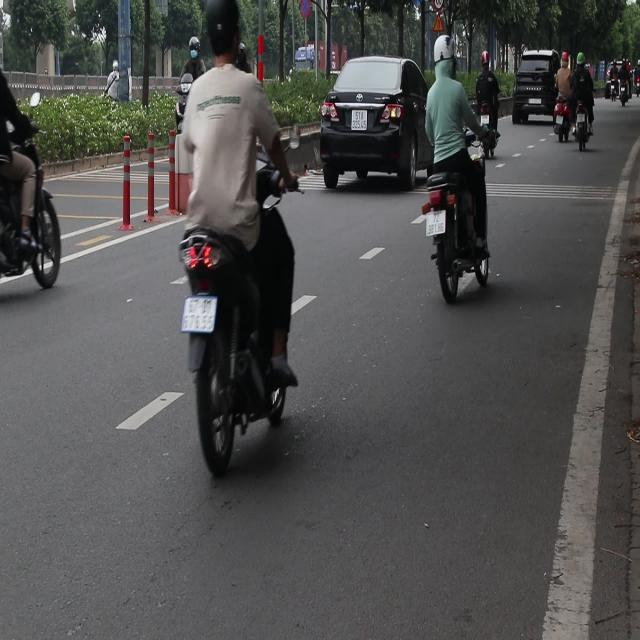car: (319, 56, 432, 191), (514, 50, 562, 124)
motorbike: (177, 215, 292, 470), (422, 159, 498, 298), (0, 126, 56, 306), (175, 71, 200, 137), (476, 100, 506, 153), (573, 109, 596, 150), (553, 97, 572, 146), (608, 77, 622, 103)
